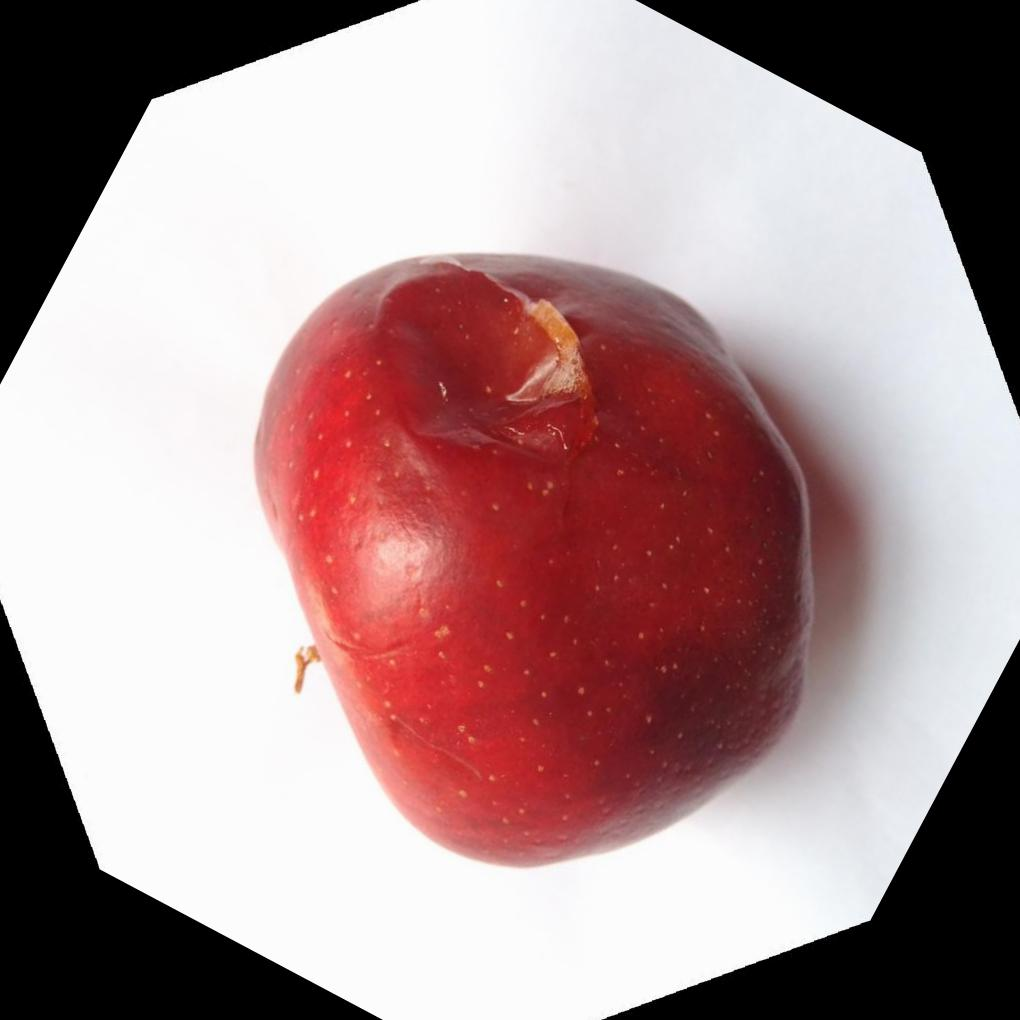FreshOrange: (251, 250, 819, 874)
